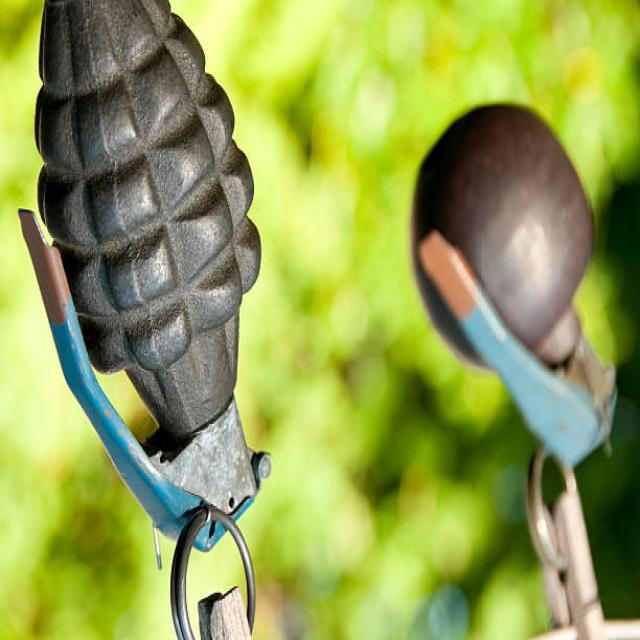grenade: (17, 1, 281, 640), (404, 90, 620, 486)
